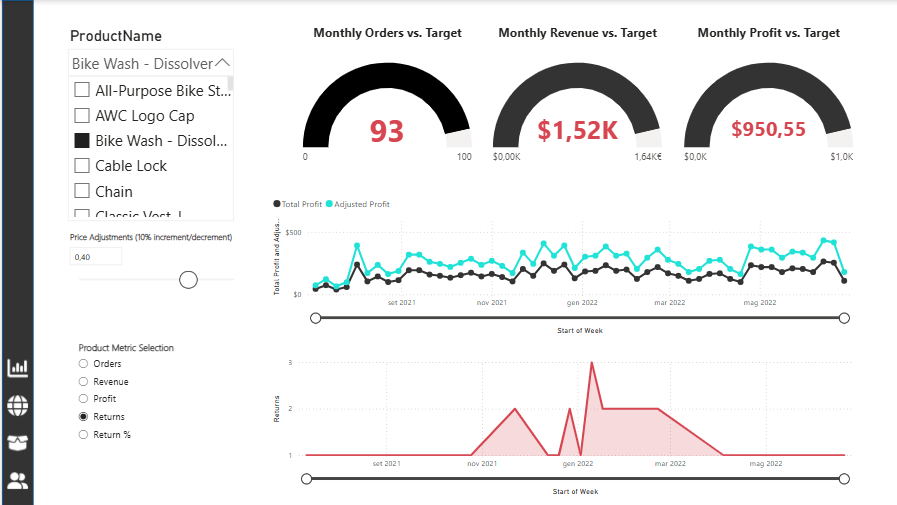

This screenshot's page, from the dashboard's own definition file:
{"tool":"powerbi","page":{"name":"Product Detail","canvas":[1280,720],"ordinal":2},"visuals":[{"type":"shape","title":"Left Nav Background","box":[0,0,45,720],"z":0},{"type":"gauge","title":"Monthly Orders vs. Target","fields":{"MaxValue":["Mesure Table.Target Order"],"Y":["Mesure Table.Total Orders"]},"box":[424.2,33.2,250.7,236.6],"z":1000},{"type":"gauge","title":"Monthly Revenue vs. Target","fields":{"MaxValue":["Mesure Table.Target Revenue"],"Y":["Mesure Table.Total Revenue"]},"box":[694.9,33.2,250.7,236.6],"z":2000},{"type":"gauge","title":"Monthly Profit vs. Target","fields":{"MaxValue":["Mesure Table.Target Profit"],"Y":["Mesure Table.Total Profit"]},"box":[965.6,33.2,250.7,236.6],"z":3000},{"type":"lineChart","title":"Profit Trending","fields":{"Category":["Calendar Lookup.Date Hierarchy.Start of Year","Calendar Lookup.Date Hierarchy.Start of Quarter","Calendar Lookup.Date Hierarchy.Start of Month","Calendar Lookup.Date Hierarchy.Start of Week","Calendar Lookup.Date Hierarchy.Date"],"Y":["Mesure Table.Total Profit","Mesure Table.Adjusted Profit"]},"box":[380,270,847.5,210],"z":4000},{"type":"stackedAreaChart","title":"Returns Trending","fields":{"Category":["Calendar Lookup.Date Hierarchy.Start of Year","Calendar Lookup.Date Hierarchy.Start of Quarter","Calendar Lookup.Date Hierarchy.Start of Month","Calendar Lookup.Date Hierarchy.Start of Week","Calendar Lookup.Date Hierarchy.Date"],"Y":["Mesure Table.Total Returns"]},"box":[380,501.2,847.5,207.5],"z":5000},{"type":"actionButton","box":[3.8,505,45,37.5],"z":8000},{"type":"actionButton","box":[3.8,558.3,45,37.5],"z":9000},{"type":"actionButton","box":[3.8,665,45,37.5],"z":10000},{"type":"actionButton","box":[3.8,611.7,45,37.5],"z":11000},{"type":"slicer","fields":{"Values":["Price Adjustments (10% increment/decrement).Price Adjustments (10% increment/decrement)"]},"box":[83.6,323.9,268.8,103.8],"z":12000},{"type":"slicer","fields":{"Values":["Product Metric Selection.Product Metric Selection"]},"box":[96.2,480,243.8,175],"z":13000},{"type":"slicer","fields":{"Values":["Product Lookup.ProductName"]},"box":[83.6,33.8,256.3,92.5],"z":13001}]}

Visuals, with their boxes on the page's 1280x720 design canvas (x1, y1, x2, y2). These are canvas units, not pixel positions in the 897x505 screenshot, which may show the page scaled, cropped or inside an application window:
"Left Nav Background" shape: bbox=[0, 0, 45, 720]
"Monthly Orders vs. Target" gauge: bbox=[424, 33, 675, 270]
"Monthly Revenue vs. Target" gauge: bbox=[695, 33, 946, 270]
"Monthly Profit vs. Target" gauge: bbox=[966, 33, 1216, 270]
"Profit Trending" lineChart: bbox=[380, 270, 1228, 480]
"Returns Trending" stackedAreaChart: bbox=[380, 501, 1228, 709]
actionButton: bbox=[4, 505, 49, 542]
actionButton: bbox=[4, 558, 49, 596]
actionButton: bbox=[4, 665, 49, 702]
actionButton: bbox=[4, 612, 49, 649]
slicer - Price Adjustments (10% increment/decrement).Price Adjustments (10% increment/decrement): bbox=[84, 324, 352, 428]
slicer - Product Metric Selection.Product Metric Selection: bbox=[96, 480, 340, 655]
slicer - Product Lookup.ProductName: bbox=[84, 34, 340, 126]
